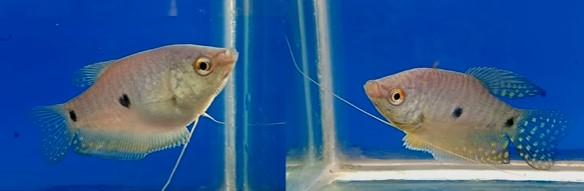Gourami: (283, 35, 575, 191), (30, 45, 287, 191)
